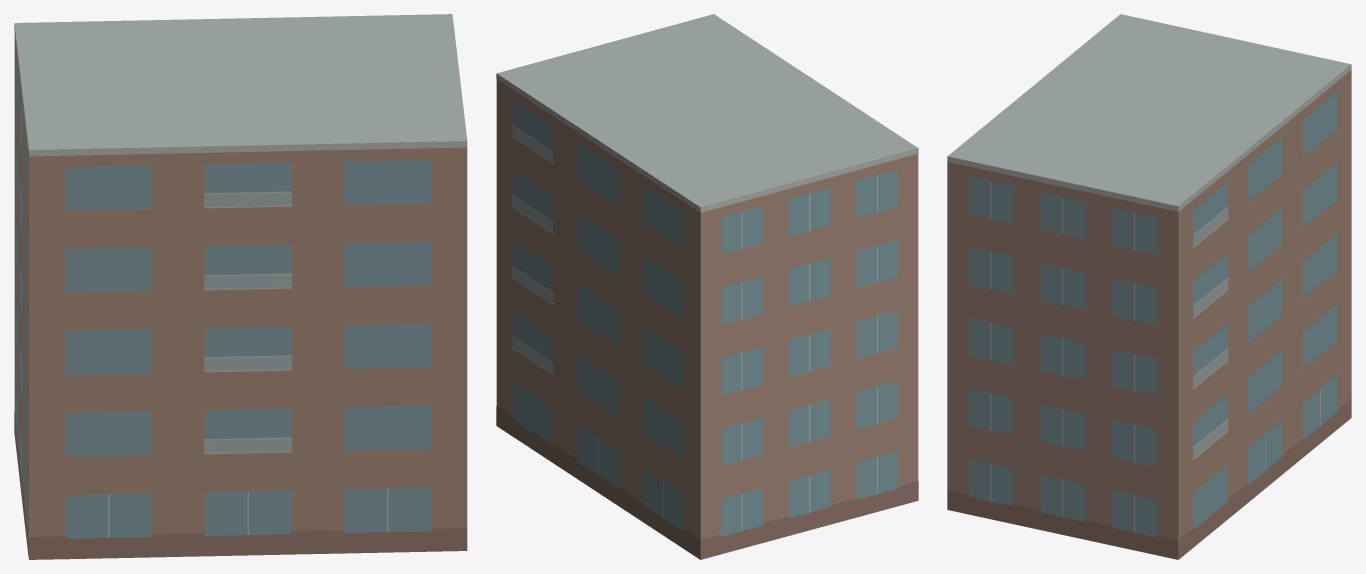
File: survey-upis-32890401.glb
3 views of the same model, side by side, from view 1: azimuth 30°, elevation 25°; view 2: azimuth 150°, elevation 25°; view 3: azimuth 270°, elevation 25° (orthographic). The views are drawn at different scales.
Parts seen in each view (by area): view 1: survey-upis-32890401.tmp; view 2: survey-upis-32890401.tmp; view 3: survey-upis-32890401.tmp.
Boxes of the visible parts, x1,y1,x2,y2 form: survey-upis-32890401.tmp: (14,14,467,559); survey-upis-32890401.tmp: (496,14,918,559); survey-upis-32890401.tmp: (947,14,1351,559).
Bounding box in the file's own units: 18.22 × 15.6 × 16.17.
